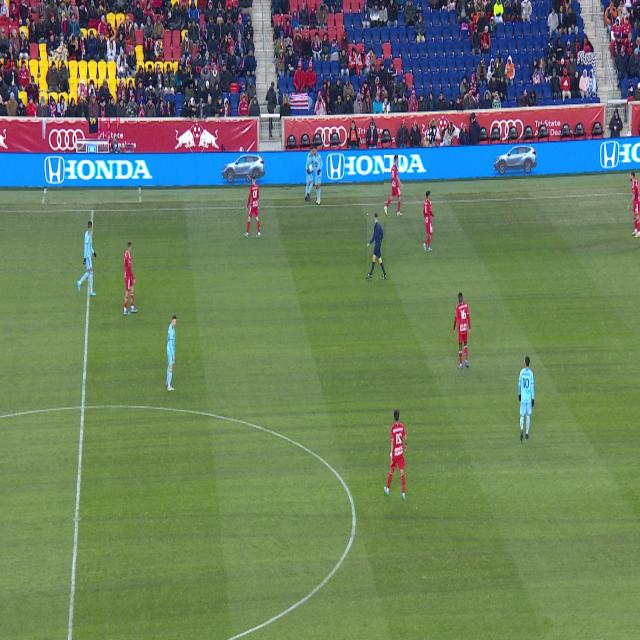player: (384, 410, 407, 500), (77, 221, 96, 296), (519, 356, 535, 440), (454, 293, 471, 369), (384, 156, 403, 216), (123, 241, 137, 316), (245, 175, 260, 238), (627, 171, 640, 238), (166, 314, 177, 391), (423, 190, 434, 252)
referee: (367, 214, 386, 280)
